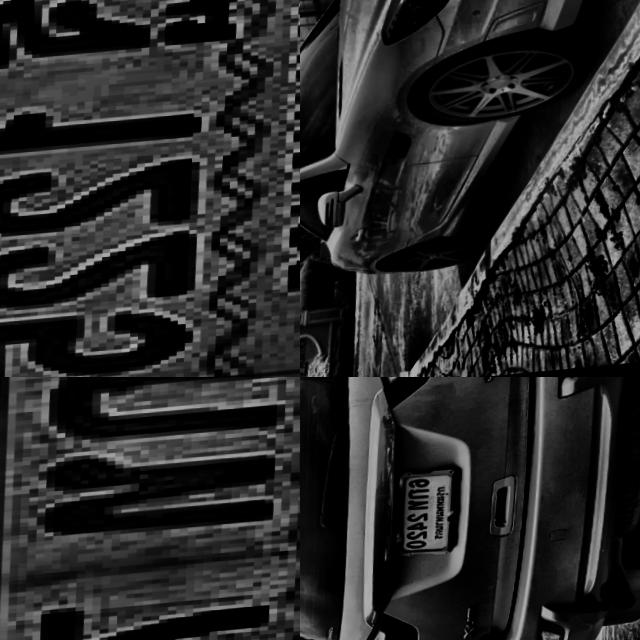license-plate: (0, 0, 300, 377), (0, 377, 300, 640), (395, 468, 468, 565)
